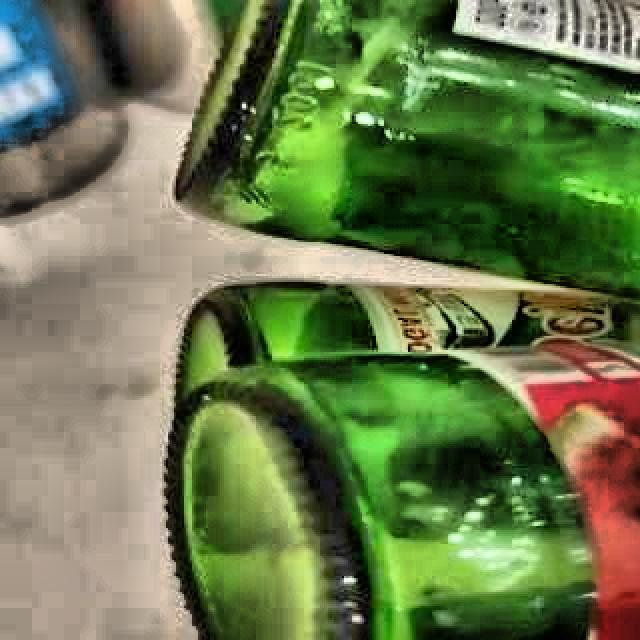glass: (165, 283, 640, 640), (176, 0, 640, 297)
